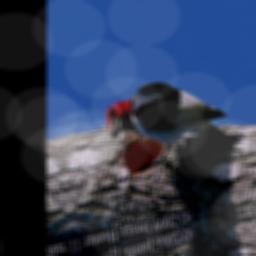Woodpecker: (94, 59, 249, 192)
